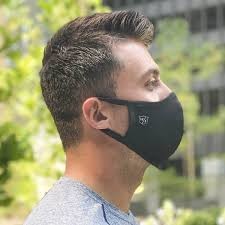with-mask: (35, 10, 187, 178)
